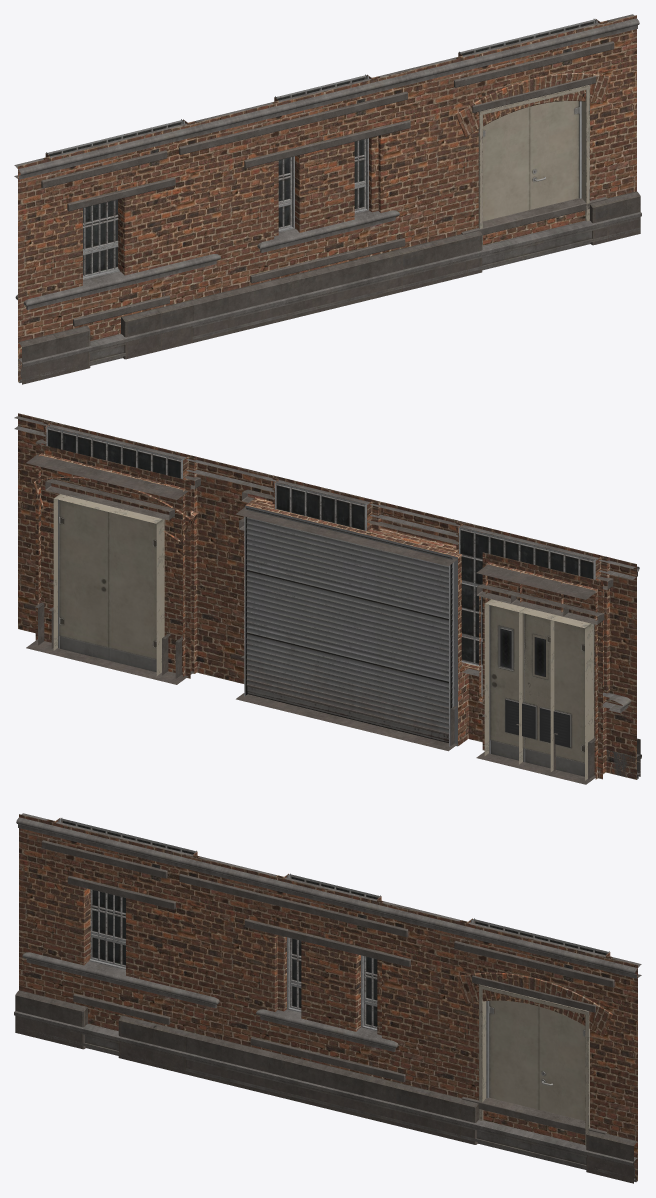
File: factory.glb
The picture shows the model from 3 angles, top to bottom: view 1: azimuth 30°, elevation 25°; view 2: azimuth 150°, elevation 25°; view 3: azimuth 330°, elevation 25°; orthographic projection.
Visible parts, largest first — view 1: FactoryEntry, FactoryUpper, FactoryUpperAlt, FactoryLoading, FactoryCrown; view 2: FactoryLoading, FactoryEntry, FactoryUpper, FactoryUpperAlt, FactoryCrown; view 3: FactoryEntry, FactoryUpper, FactoryUpperAlt, FactoryLoading, FactoryCrown.
Part boxes in pixels (x1,y1,x2,y2): FactoryEntry: [18, 21, 640, 381]; FactoryUpper: [14, 14, 639, 379]; FactoryUpperAlt: [18, 20, 636, 368]; FactoryLoading: [18, 19, 640, 384]; FactoryCrown: [18, 212, 641, 382]; FactoryLoading: [18, 413, 639, 784]; FactoryEntry: [18, 413, 640, 778]; FactoryUpper: [14, 416, 639, 779]; FactoryUpperAlt: [18, 415, 636, 779]; FactoryCrown: [21, 607, 641, 779]; FactoryEntry: [15, 814, 637, 1180]; FactoryUpper: [16, 813, 641, 1179]; FactoryUpperAlt: [19, 815, 637, 1171]; FactoryLoading: [15, 815, 637, 1183]; FactoryCrown: [14, 1011, 637, 1181].
Bounding box in the file's own units: 9 × 3 × 0.63.
Materials: 6 (6 with a texture image).
